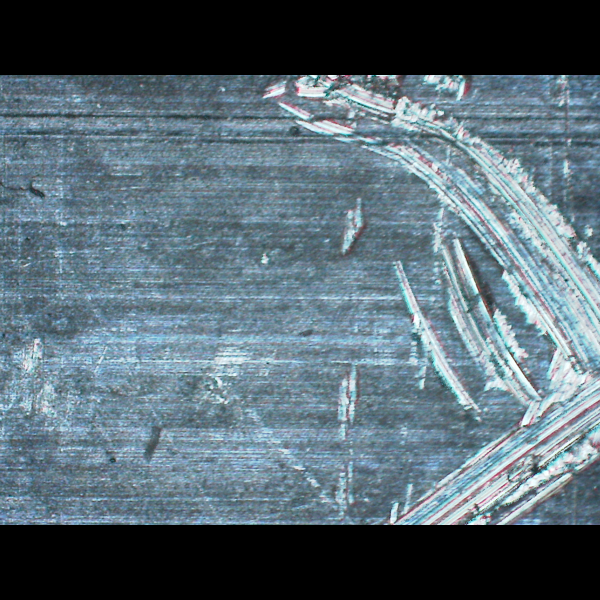d: (252, 76, 599, 524)
